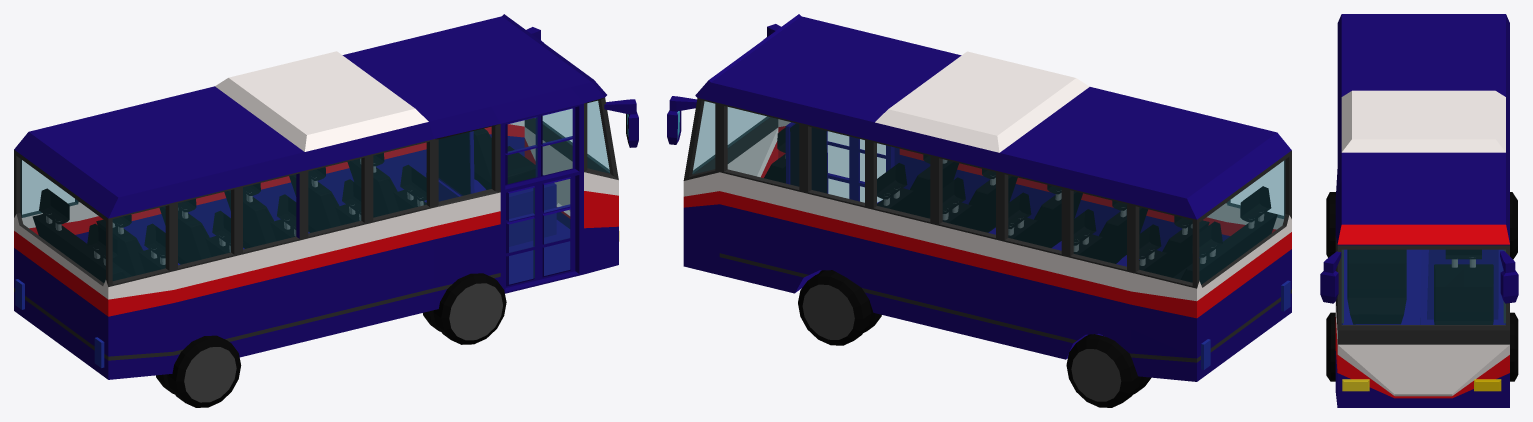
File: bondi.glb
The picture shows the model from 3 angles, left to right: view 1: azimuth 30°, elevation 25°; view 2: azimuth 150°, elevation 25°; view 3: azimuth 270°, elevation 25°; orthographic projection. The views are drawn at different scales.
Parts seen in each view (by area): view 1: Cube, asiento adelante, Plane, rueda_trasera_der, rueda_delantera_der, asiento trasero, EspejoDerecho, Cube.001; view 2: Cube, asiento adelante, rueda_delantera_izq, rueda_trasera_izq, asiento trasero, Plane, EspejoIzquierdo, Cube.001; view 3: Cube, asiento adelante, Plane, EspejoDerecho, EspejoIzquierdo, rueda_delantera_der, rueda_trasera_der, rueda_delantera_izq, rueda_trasera_izq, Luz2, Luz1.
Boxes of the visible parts, x1,y1,x2,y2 form: Cube: (14,14,619,379); asiento adelante: (96,128,535,276); Plane: (178,131,556,265); rueda_trasera_der: (156,335,241,407); rueda_delantera_der: (423,273,506,344); asiento trasero: (32,188,132,283); EspejoDerecho: (604,99,638,147); Cube.001: (15,279,104,367); Cube: (683,14,1291,381); asiento adelante: (764,127,1209,277); rueda_delantera_izq: (798,270,881,345); rueda_trasera_izq: (1066,334,1151,407); asiento trasero: (1173,186,1277,284); Plane: (785,122,1161,336); EspejoIzquierdo: (667,96,697,144); Cube.001: (1201,280,1290,369); Cube: (1335,14,1509,407); asiento adelante: (1347,249,1493,324); Plane: (1343,249,1505,324); EspejoDerecho: (1320,251,1341,303); EspejoIzquierdo: (1500,251,1518,303); rueda_delantera_der: (1326,312,1342,381); rueda_trasera_der: (1326,192,1335,257); rueda_delantera_izq: (1505,312,1518,381); rueda_trasera_izq: (1510,192,1517,259); Luz2: (1342,379,1369,391); Luz1: (1474,379,1501,391).
Bounding box in the file's own units: 6.48 × 2.79 × 2.29.
